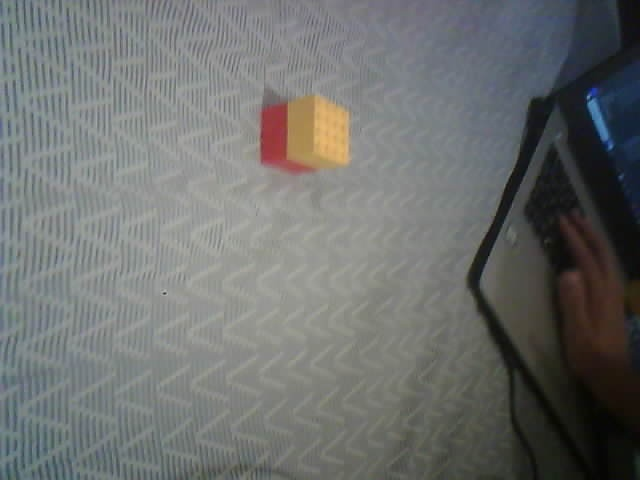lego: (259, 93, 349, 175)
